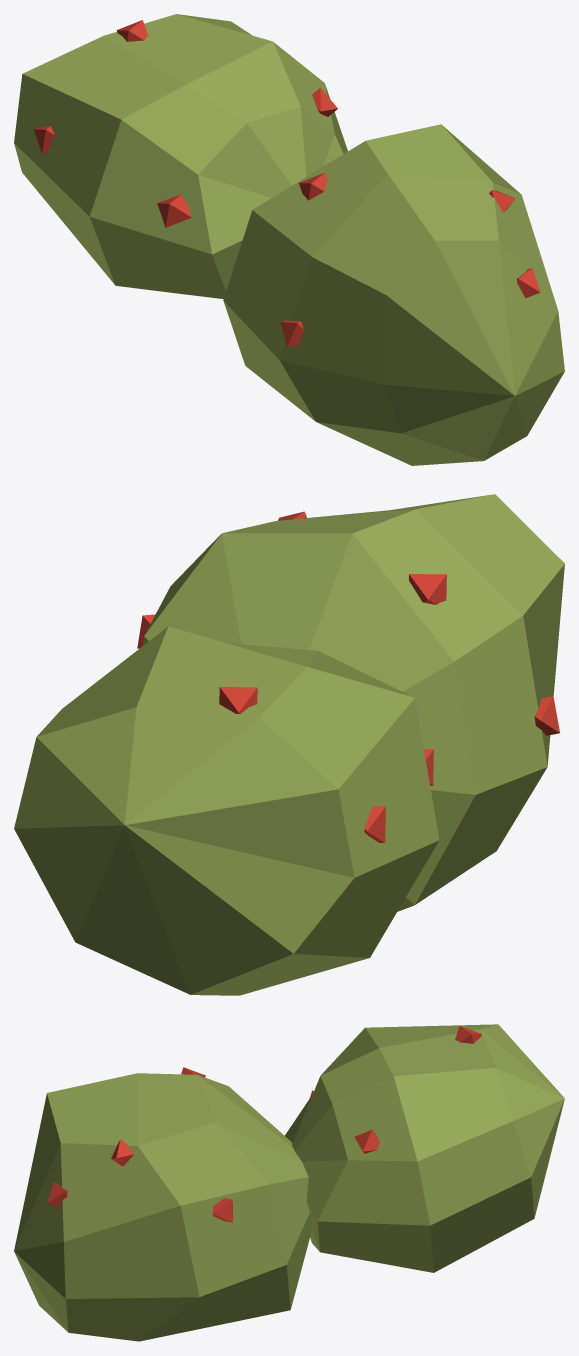
File: bush_1.FBX
The picture shows the model from 3 angles, top to bottom: view 1: azimuth 30°, elevation 25°; view 2: azimuth 150°, elevation 25°; view 3: azimuth 270°, elevation 25°; orthographic projection. The views are drawn at different scales.
Visible parts, largest first — view 1: Cylinder047; view 2: Cylinder047; view 3: Cylinder047.
Boxes of the visible parts, left/top/right/bottom form: Cylinder047: left=14, top=14, right=564, bottom=465; Cylinder047: left=14, top=494, right=564, bottom=995; Cylinder047: left=14, top=1024, right=564, bottom=1341.
Bounding box in the file's own units: 5.13 × 4.67 × 8.72.
Materials: 1 (1 with a texture image).
